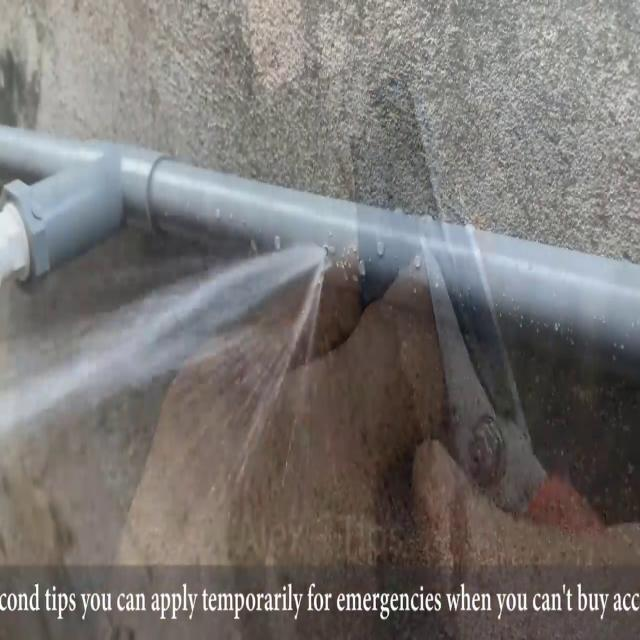leak: (0, 240, 327, 513)
